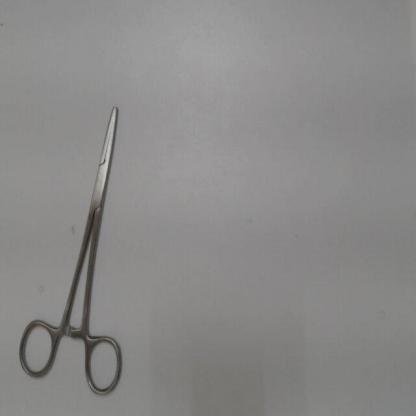Mayo Needle Holder: (13, 92, 129, 404)
